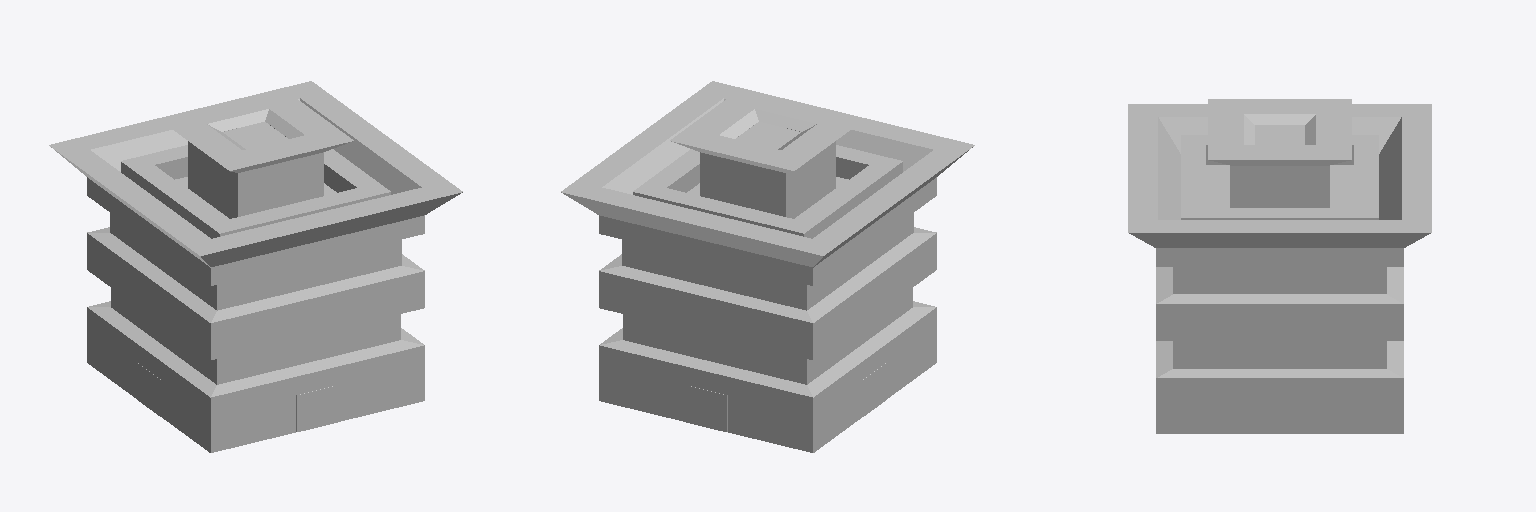
The model's file is Protection Center.obj.
3 views of the same model, side by side, from view 1: azimuth 30°, elevation 25°; view 2: azimuth 150°, elevation 25°; view 3: azimuth 270°, elevation 25° (orthographic).
Parts seen in each view (by area): view 1: Protection_Center; view 2: Protection_Center; view 3: Protection_Center.
Boxes of the visible parts, box(x1,y1,x2,y2) form: Protection_Center: box(49, 81, 462, 452); Protection_Center: box(561, 81, 974, 452); Protection_Center: box(1128, 99, 1431, 433).
Size of the model in its own units: 2.59 by 2.38 by 2.59.